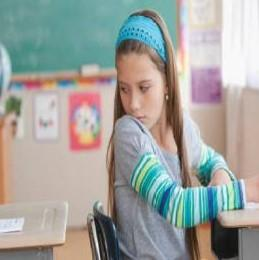cheating: (103, 7, 259, 260)
